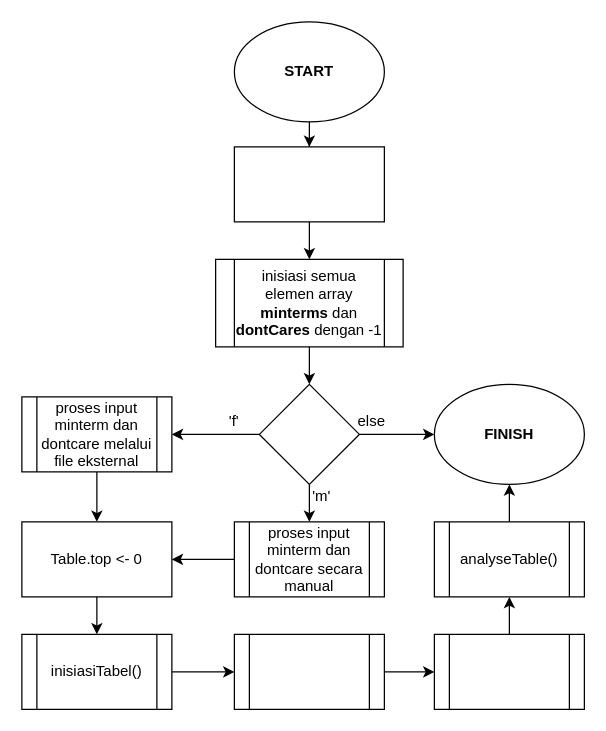
The diagram is 606 pixels wide and 731 high, and some of its shapes have lost their labels. Here are the shapes that lost their labels. From the top down, the centre of each, then its label:
the point at 308,184: kondisiDontCare <- 0 maxGroup <- 1 newMaxGroup <- -1
the point at 308,433: mode ?
the point at 308,671: pair()
the point at 508,671: tampilkanTabel()
